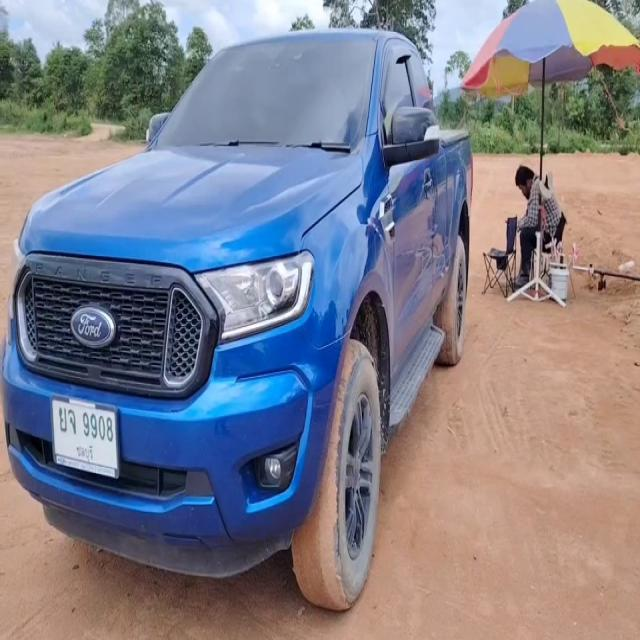Digit: (82, 411, 114, 443)
Licenseplate: (52, 398, 120, 479)
Provincename: (75, 442, 95, 464)
Thaichar: (57, 407, 77, 436)
